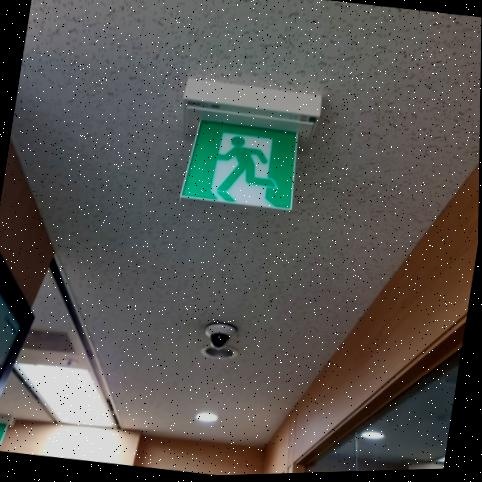emergency_exit: (178, 76, 322, 212), (179, 115, 300, 212)
